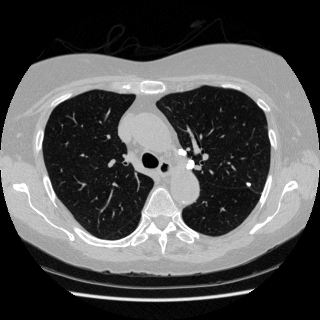nodule: (245, 181, 251, 187)
